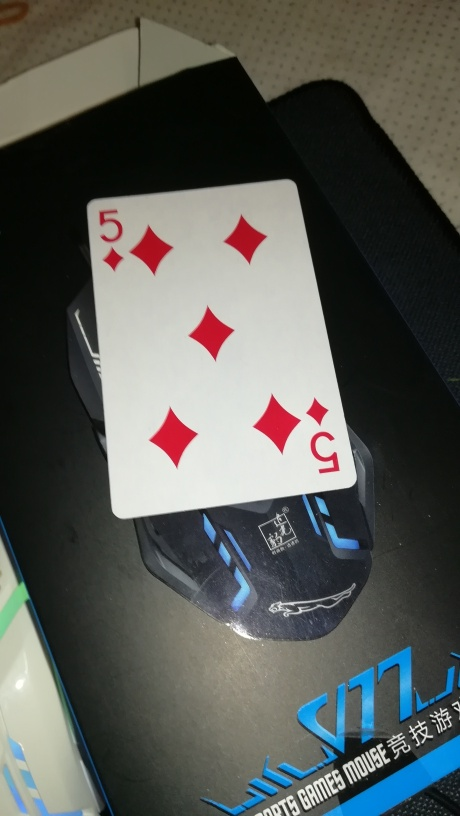fk 5: (81, 173, 363, 522)
